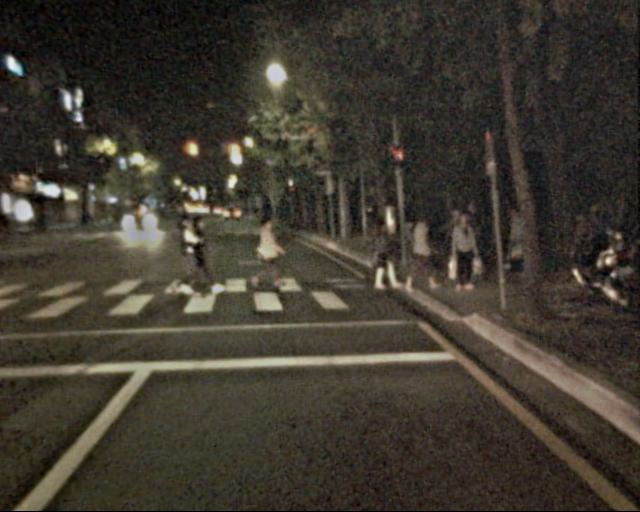person: (170, 213, 204, 296), (407, 213, 440, 294), (185, 214, 218, 294), (364, 212, 397, 292), (250, 215, 281, 291), (452, 216, 483, 291), (500, 201, 530, 275), (590, 196, 619, 266), (463, 201, 491, 270), (444, 204, 471, 271)
